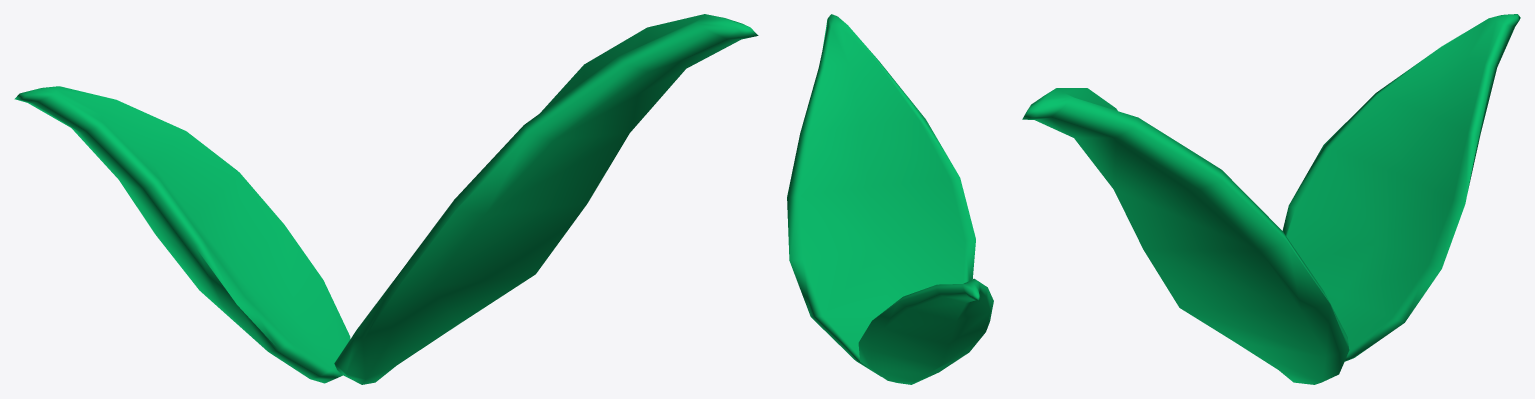
Rendered from Farm_7_Plant_2.glb.
The picture shows the model from 3 angles, left to right: view 1: azimuth 30°, elevation 25°; view 2: azimuth 150°, elevation 25°; view 3: azimuth 270°, elevation 25°; orthographic projection. The views are drawn at different scales.
Visible parts, largest first — view 1: Farm_7_Plant_2; view 2: Farm_7_Plant_2; view 3: Farm_7_Plant_2.
Part boxes in pixels (x1=…): Farm_7_Plant_2: x1=14, y1=14, x2=758, y2=384; Farm_7_Plant_2: x1=787, y1=14, x2=993, y2=384; Farm_7_Plant_2: x1=1022, y1=14, x2=1520, y2=384.
Size of the model in its own units: 0.2254 by 0.1777 by 0.2061.
1 material, 1 textured.
